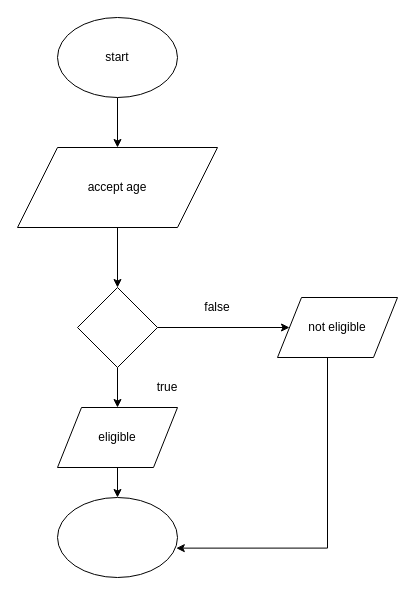
Some shapes in this 415 by 595 pixel diagram are drawn without their labels. The centre of each missing label's shape, as x and y in pixels:
"age>=18" belongs at (117,327).
"stop" belongs at (117,537).
